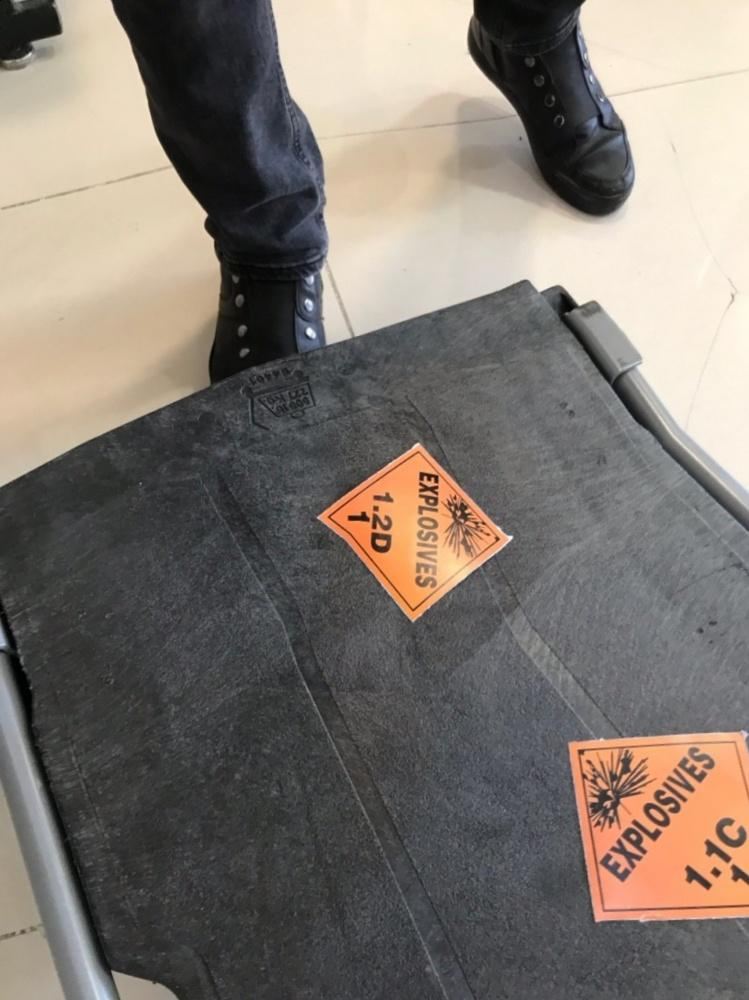explosive: (321, 440, 517, 641), (567, 733, 749, 930)
